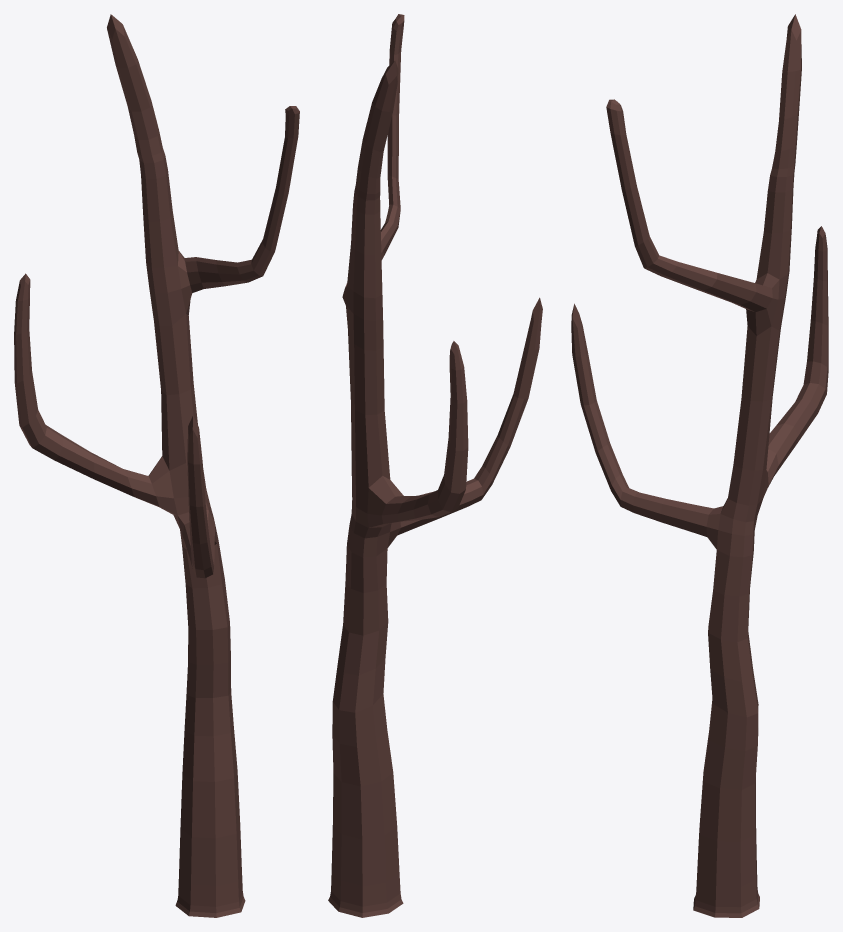
Rendered from CommonTree_Dead_3.glb.
The picture shows the model from 3 angles, left to right: view 1: azimuth 30°, elevation 25°; view 2: azimuth 150°, elevation 25°; view 3: azimuth 270°, elevation 25°; orthographic projection. The views are drawn at different scales.
Visible parts, largest first — view 1: CommonTree_Dead_3; view 2: CommonTree_Dead_3; view 3: CommonTree_Dead_3.
Part boxes in pixels (x1,y1,x2,y2): CommonTree_Dead_3: [14, 14, 299, 917]; CommonTree_Dead_3: [328, 14, 542, 917]; CommonTree_Dead_3: [571, 14, 828, 917].
Size of the model in its own units: 0.635 by 3 by 0.8125.
